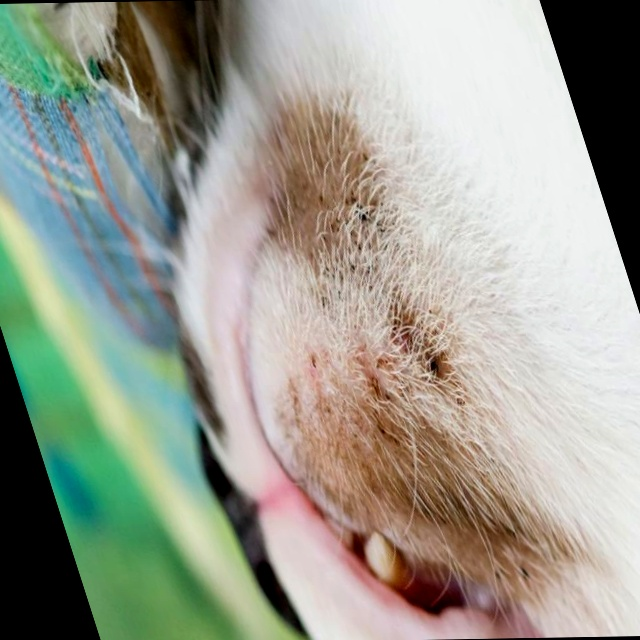acne: (330, 292, 483, 429)
